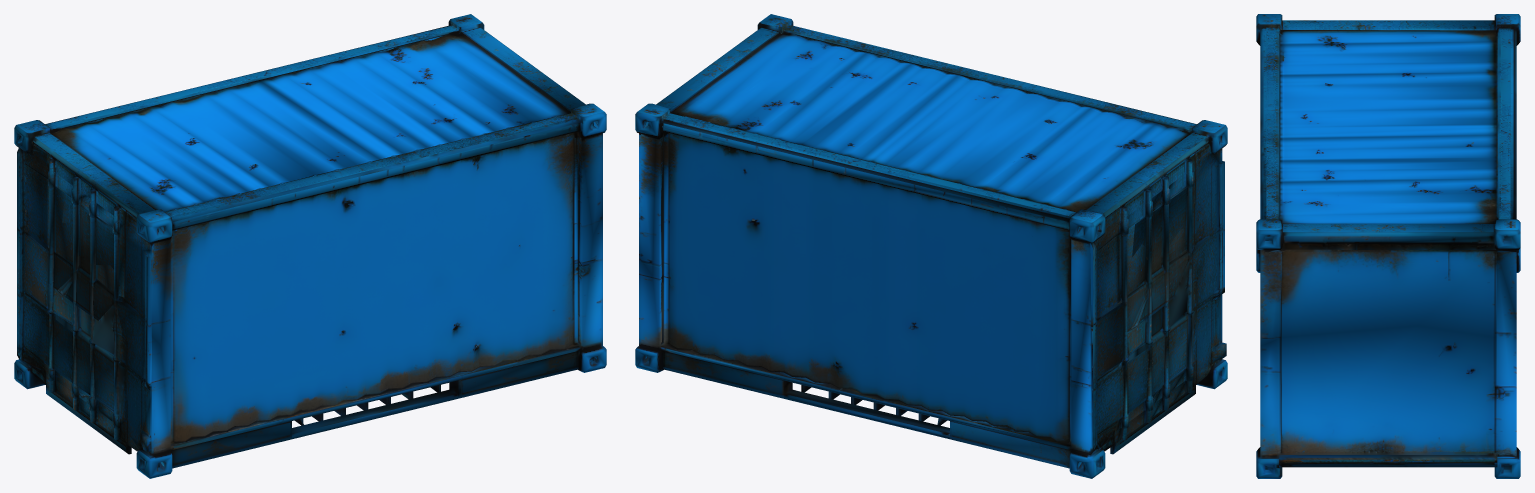
The picture shows the model from 3 angles, left to right: view 1: azimuth 30°, elevation 25°; view 2: azimuth 150°, elevation 25°; view 3: azimuth 270°, elevation 25°; orthographic projection. The views are drawn at different scales.
Parts seen in each view (by area): view 1: material; view 2: material; view 3: material.
Boxes of the visible parts, x1=… form: material: x1=14, y1=14, x2=606, y2=478; material: x1=635, y1=14, x2=1227, y2=478; material: x1=1256, y1=14, x2=1520, y2=478.
Bounding box in the file's own units: 0.9743 × 0.517 × 0.498.
1 material, 1 textured.
